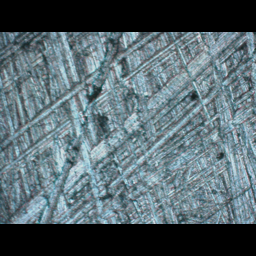d: (0, 31, 214, 220)
